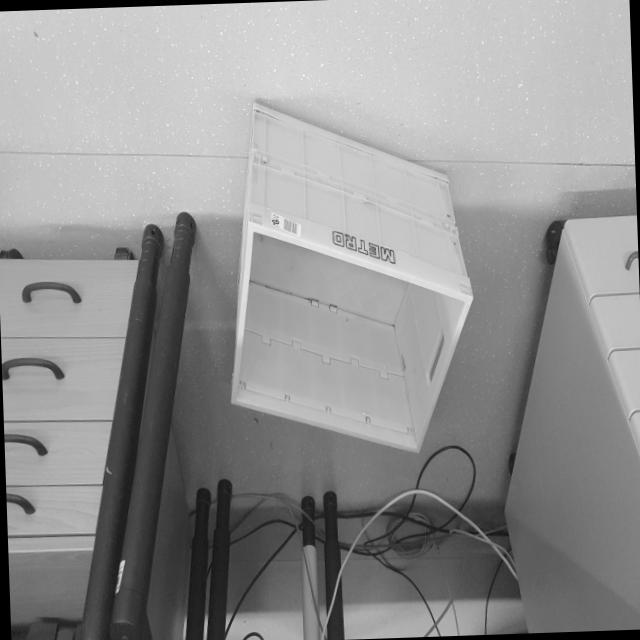box: (214, 89, 481, 474)
